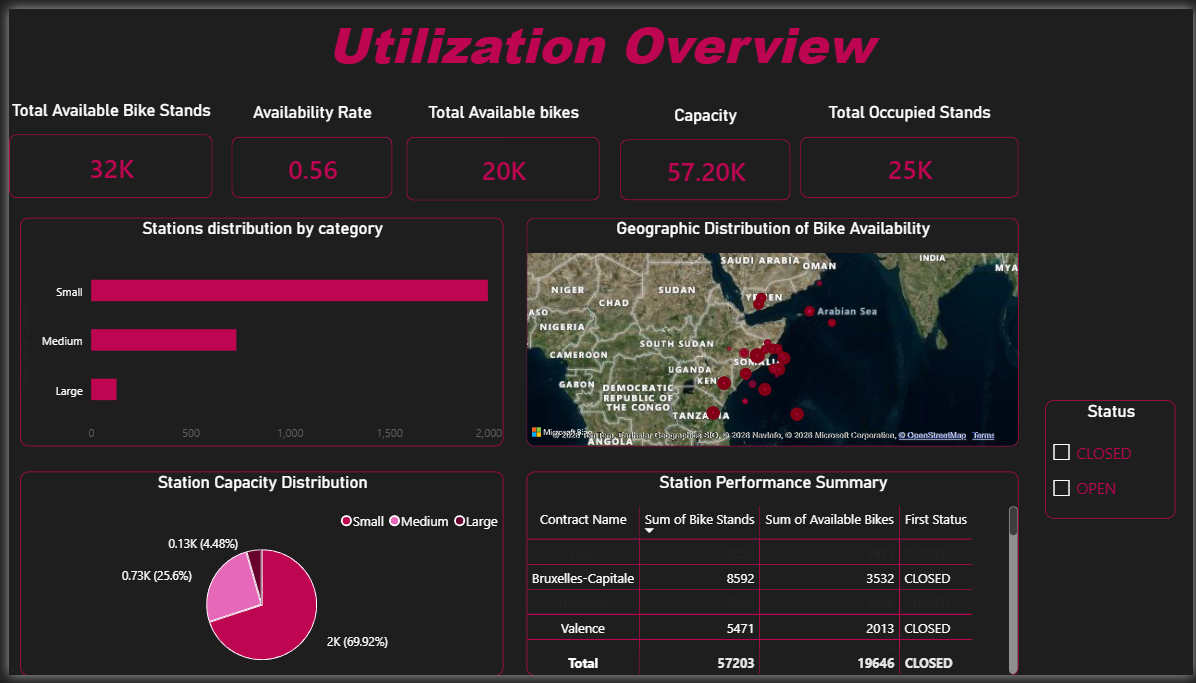

What the dashboard file says about the page in this screenshot:
{"tool":"powerbi","page":{"name":"Utilization Overview Dashboard","canvas":[1280,720],"ordinal":1},"visuals":[{"type":"cardVisual","title":"Total Available Bike Stands","fields":{"Data":["Sum(Station_Details.Available Bike Stands)"]},"box":[0,98.9,220.8,106.2],"z":0},{"type":"cardVisual","title":"Availability Rate","fields":{"Data":["Station_Details.Availability %"]},"box":[240.1,101.3,174.9,103.8],"z":1000},{"type":"cardVisual","title":"Total Available bikes","fields":{"Data":["Sum(Station_Details.Available Bikes)"]},"box":[429.5,101.3,209.9,106.2],"z":2000},{"type":"cardVisual","title":"Capacity","fields":{"Data":["Station_Details.Total capacity"]},"box":[661.1,103.8,184.6,103.8],"z":3000},{"type":"cardVisual","title":"Total Occupied Stands","fields":{"Data":["Station_Details.total occupied Stands"]},"box":[855.4,101.3,236.5,103.8],"z":4000},{"type":"clusteredBarChart","title":"Stations distribution by category","fields":{"Category":["Station_Details.Bike Stand Category"],"Y":["CountNonNull(Station_Details.Station name)"]},"box":[12.1,225.6,522.4,247.3],"z":5000},{"type":"map","title":"Geographic Distribution of Bike Availability","fields":{"Size":["Sum(Station_Details.Available Bikes)"],"X":["Station_Details.Longitude"],"Y":["Station_Details.Latitude"]},"box":[559.8,225.6,532,247.3],"z":6000},{"type":"pieChart","title":"Station Capacity Distribution","fields":{"Category":["Station_Details.Bike Stand Category"],"Y":["CountNonNull(Station_Details.Station ID)"]},"box":[12.1,499.5,522.4,220.8],"z":7000},{"type":"textbox","box":[0,0,1280,80.8],"z":8000},{"type":"pivotTable","title":"Station Performance Summary","fields":{"Rows":["Station_Details.Contract Name"],"Values":["Sum(Station_Details.Bike Stands)","Sum(Station_Details.Available Bikes)","Min(Station_Details.Status)"]},"box":[559.8,499.5,532,220.8],"z":9000},{"type":"slicer","title":"Status","fields":{"Values":["Station_Details.Status"]},"box":[1120.8,423.5,141.2,127.9],"z":10000}]}

Visuals, with their boxes in screenshot pixels (x1, y1, x2, y2), scaled from the page's 1280x720 canvas onto the 1196x683 screenshot:
"Total Available Bike Stands" cardVisual: rect(0, 94, 206, 195)
"Availability Rate" cardVisual: rect(224, 96, 388, 195)
"Total Available bikes" cardVisual: rect(401, 96, 597, 197)
"Capacity" cardVisual: rect(618, 98, 790, 197)
"Total Occupied Stands" cardVisual: rect(799, 96, 1020, 195)
"Stations distribution by category" clusteredBarChart: rect(11, 214, 499, 449)
"Geographic Distribution of Bike Availability" map: rect(523, 214, 1020, 449)
"Station Capacity Distribution" pieChart: rect(11, 474, 499, 682)
textbox: rect(0, 0, 1195, 77)
"Station Performance Summary" pivotTable: rect(523, 474, 1020, 682)
"Status" slicer: rect(1047, 402, 1179, 523)
